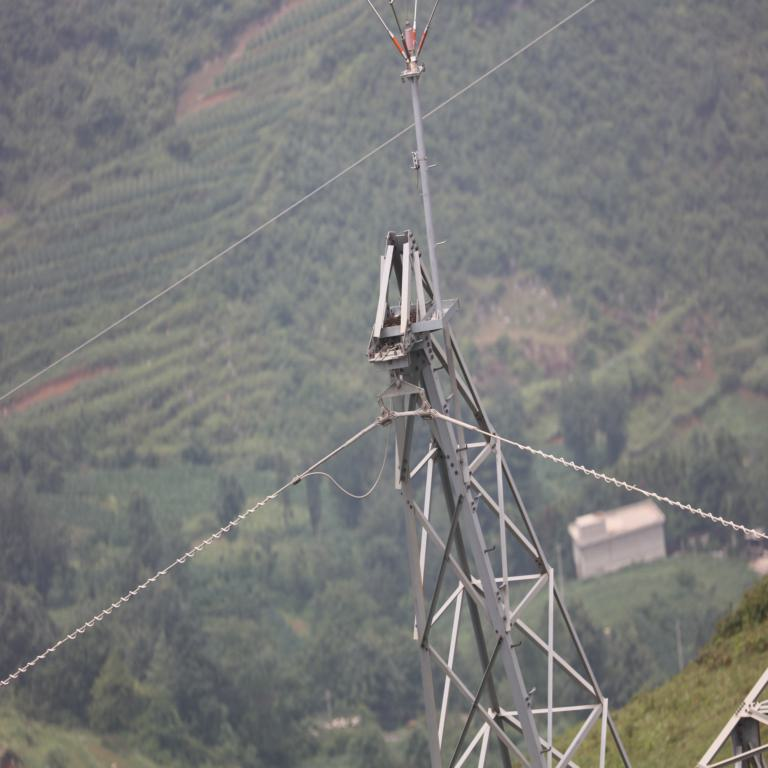nest: (392, 307, 421, 331)
